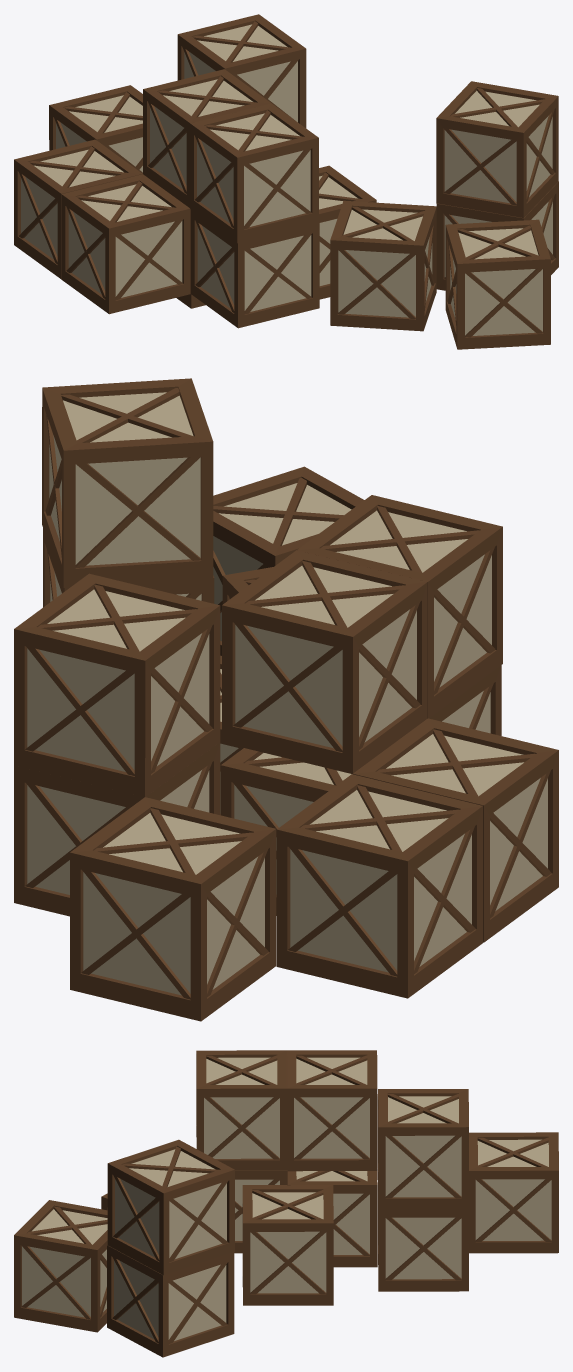
Rendered from Wooden_Boxes__005.fbx.
The picture shows the model from 3 angles, top to bottom: view 1: azimuth 30°, elevation 25°; view 2: azimuth 150°, elevation 25°; view 3: azimuth 270°, elevation 25°; orthographic projection. The views are drawn at different scales.
Parts seen in each view (by area): view 1: Wooden box-1; view 2: Wooden box-1; view 3: Wooden box-1.
Boxes of the visible parts, bbox=[...] form: Wooden box-1: bbox=[14, 14, 558, 349]; Wooden box-1: bbox=[14, 378, 558, 1021]; Wooden box-1: bbox=[14, 1050, 558, 1357].
Bounding box in the file's own units: 4.99 × 2.29 × 6.34.
